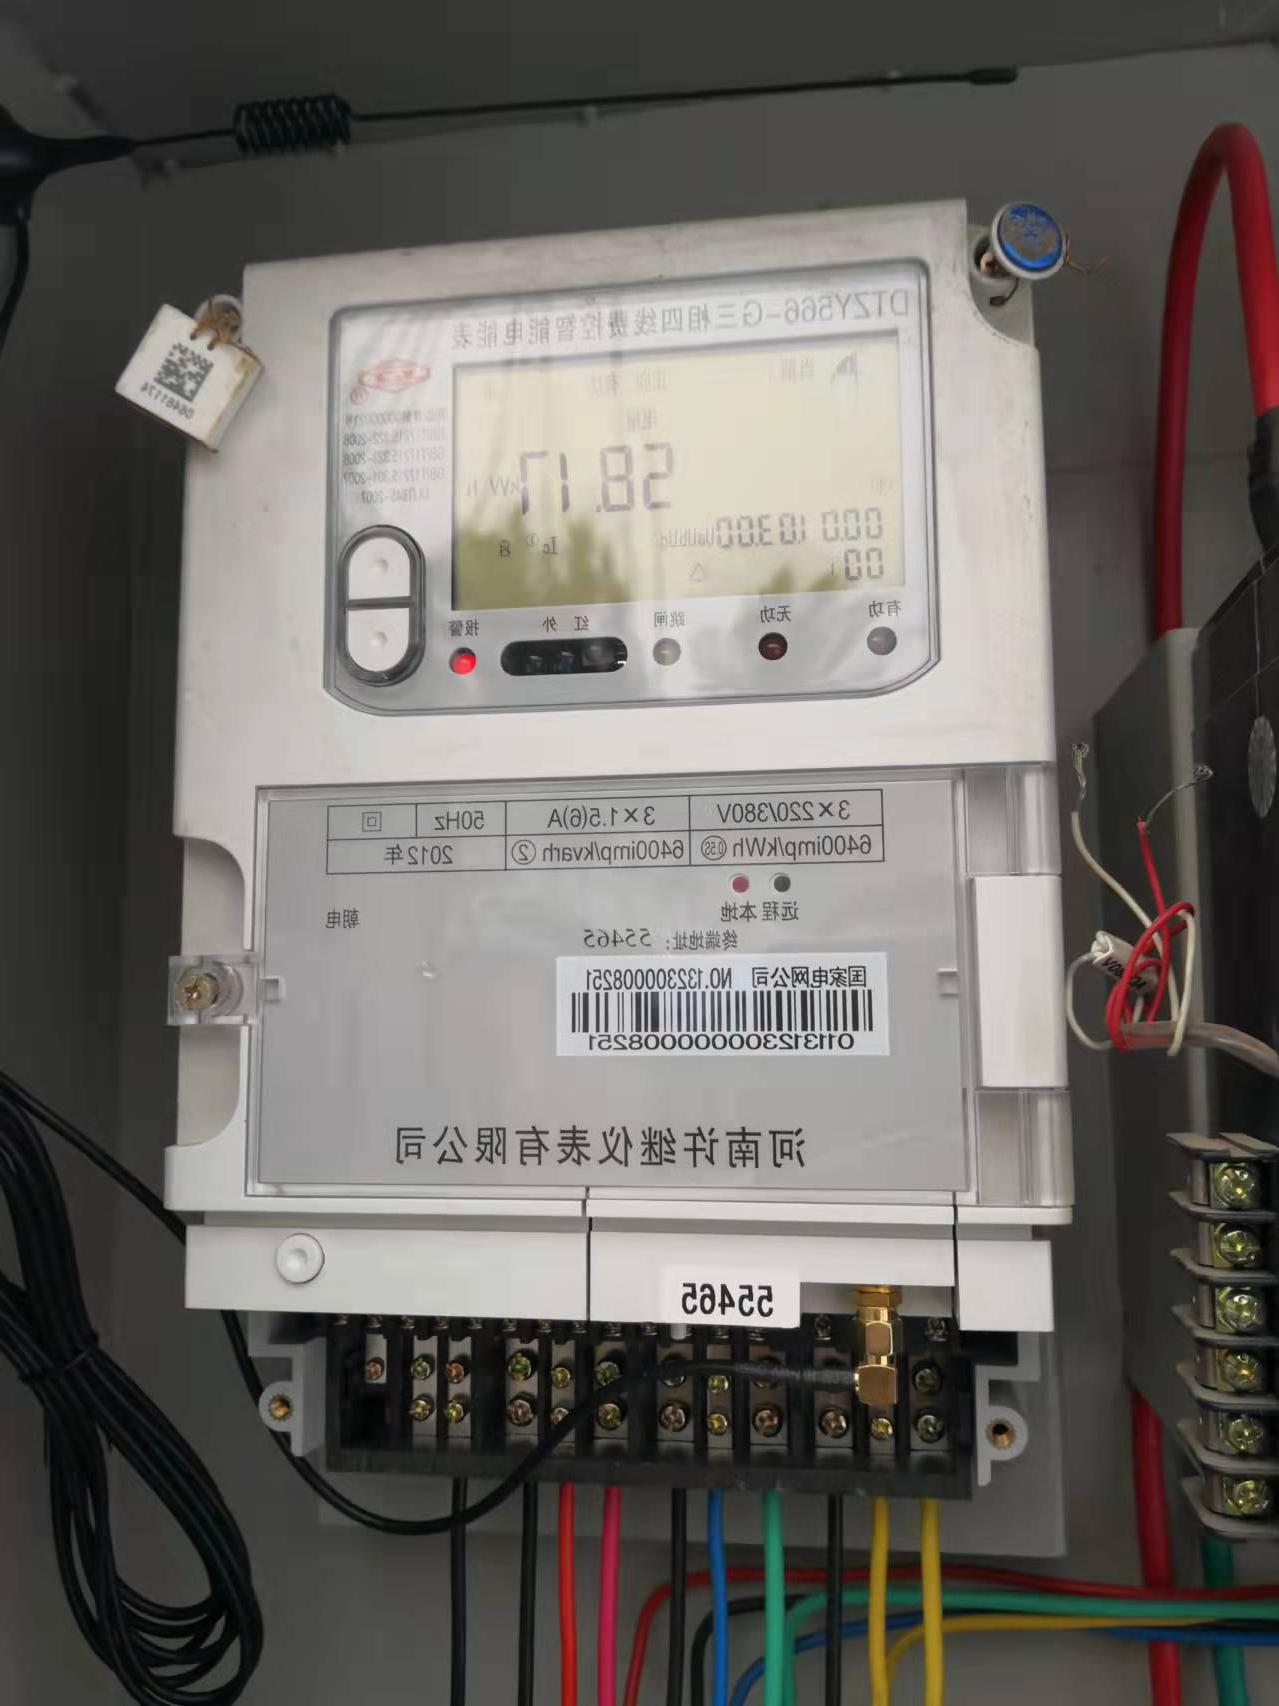digital: (163, 193, 1071, 1222)
